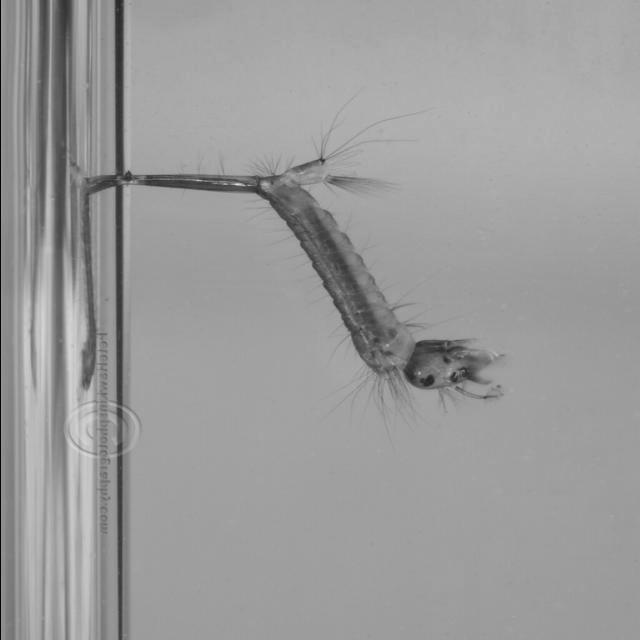larvas: (94, 177, 484, 388)
